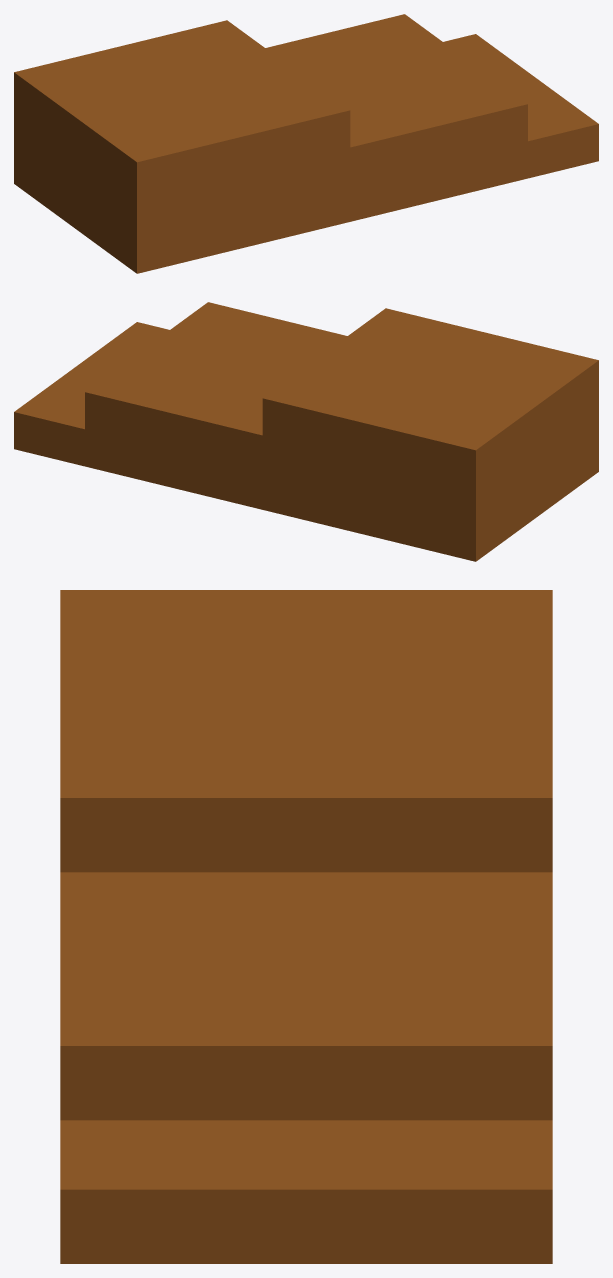
Rendered from medved-1.obj.
3 renders of one model, top to bottom at view 1: azimuth 30°, elevation 25°; view 2: azimuth 150°, elevation 25°; view 3: azimuth 270°, elevation 25°, orthographic. The views are drawn at different scales.
Bounding box in the file's own units: 1.3 × 0.3 × 0.6.
Materials: 1 (1 with a texture image).
